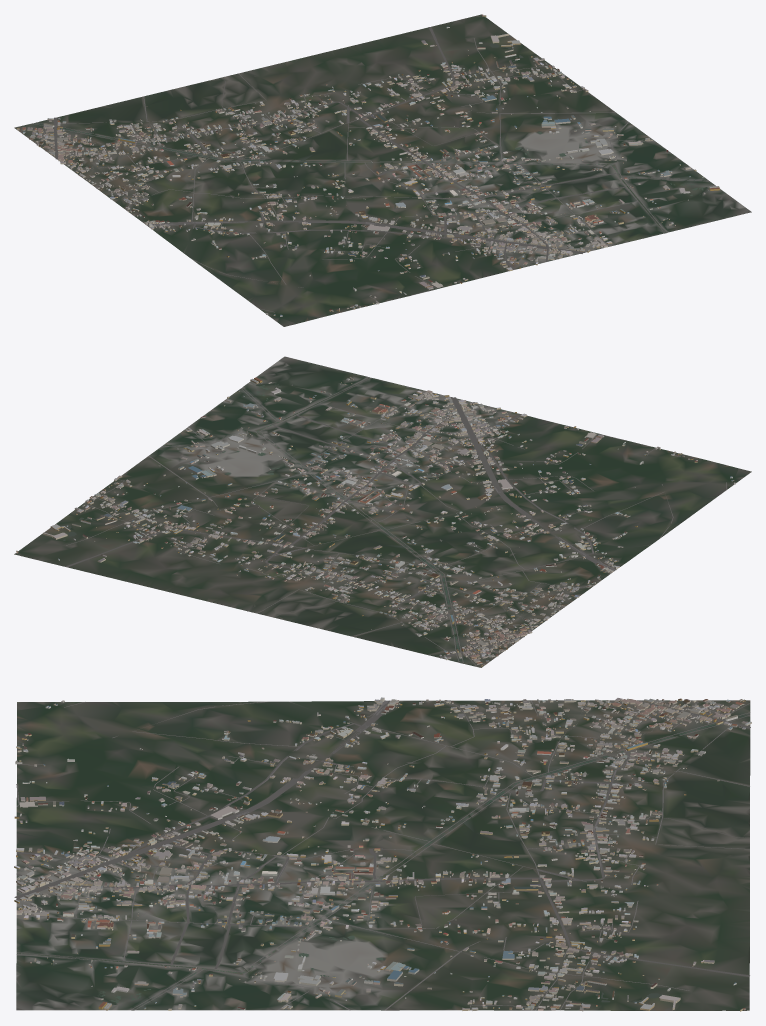
3 views of the same model, one above another, from view 1: azimuth 30°, elevation 25°; view 2: azimuth 150°, elevation 25°; view 3: azimuth 270°, elevation 25° (orthographic). The views are drawn at different scales.
Parts seen in each view (by area): view 1: ground, buildings, roads, water; view 2: ground, buildings, roads, water; view 3: ground, buildings, roads, water.
Part boxes in pixels (x1,y1,x2,y2): ground: [14, 14, 751, 326]; buildings: [16, 14, 719, 316]; roads: [19, 27, 709, 312]; water: [56, 43, 703, 232]; ground: [14, 356, 751, 667]; buildings: [16, 376, 735, 666]; roads: [65, 377, 726, 666]; water: [63, 377, 459, 652]; ground: [16, 700, 750, 1010]; buildings: [14, 697, 751, 1011]; roads: [14, 700, 750, 1010]; water: [17, 723, 715, 1002].
Size of the model in its own units: 2817 by 23.4 by 2819.
